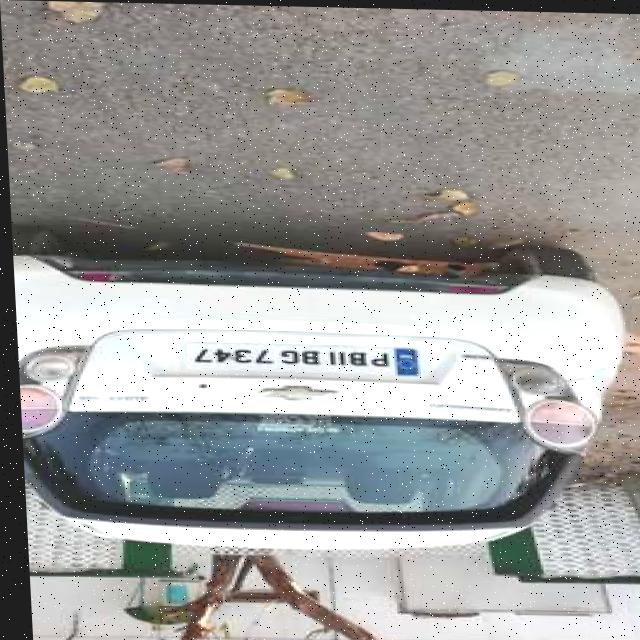plate: (180, 338, 420, 377)
